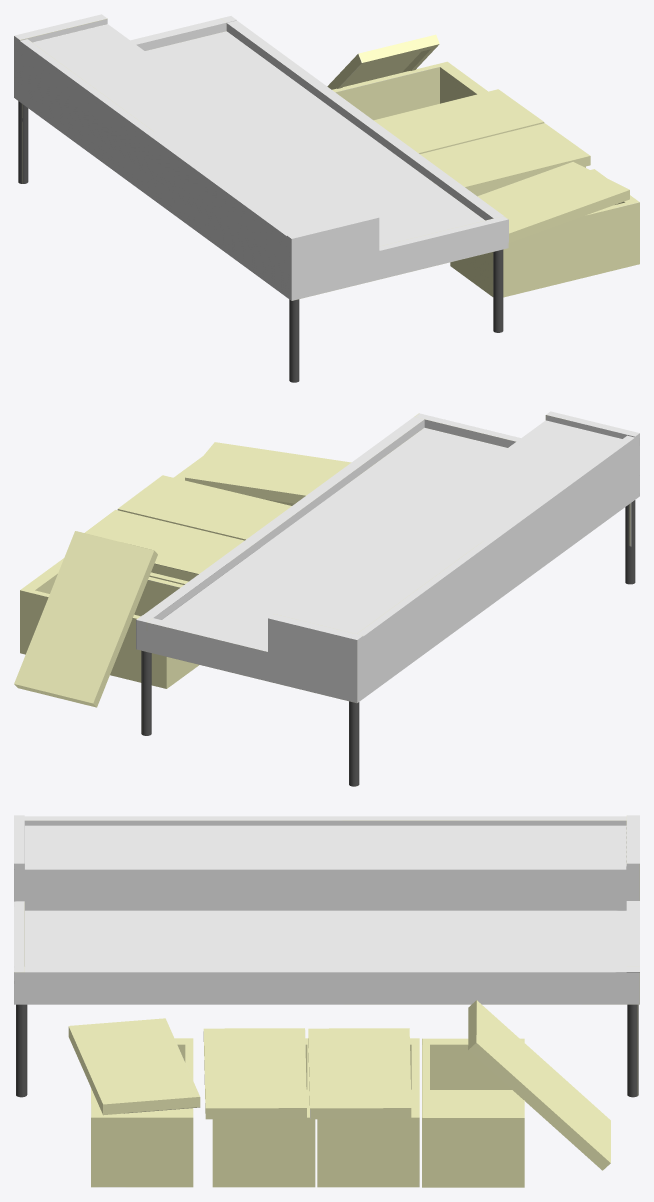
The model's file is STALL #3.fbx.
3 views of the same model, one above another, from view 1: azimuth 30°, elevation 25°; view 2: azimuth 150°, elevation 25°; view 3: azimuth 270°, elevation 25° (orthographic). The views are drawn at different scales.
Visible parts, largest first — view 1: ST3; view 2: ST3; view 3: ST3.
Part boxes in pixels (x1,y1,x2,y2): ST3: (14,14,639,382); ST3: (14,411,639,786); ST3: (14,815,639,1187).
Size of the model in its own units: 1038 by 376 by 1301.
1 material, 1 textured.
